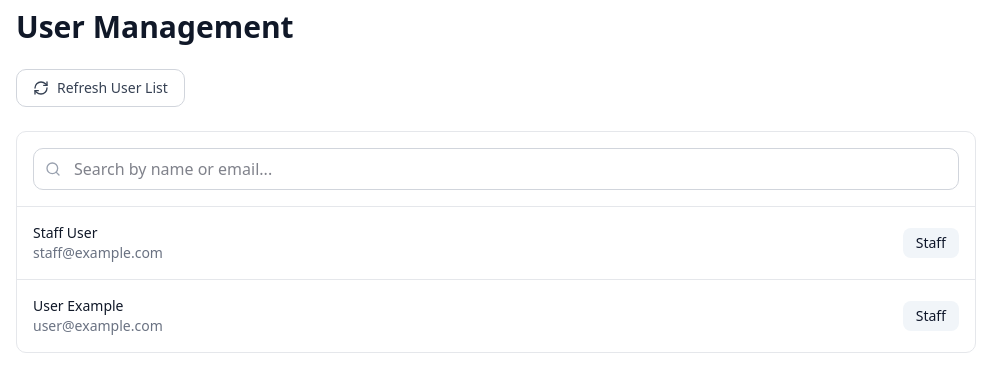
User Management - Scrum-318 › Scrum-318.1 - HR can search for users in the system › should allow HR to search for users by name
Expected: the heading "Staff User" is shown, [33,223,98,242]
# Enter user name in search field
Type "john.doe@example.com" into the field with placeholder "Search by name or email..." at [496, 169], box [33,148,959,190]
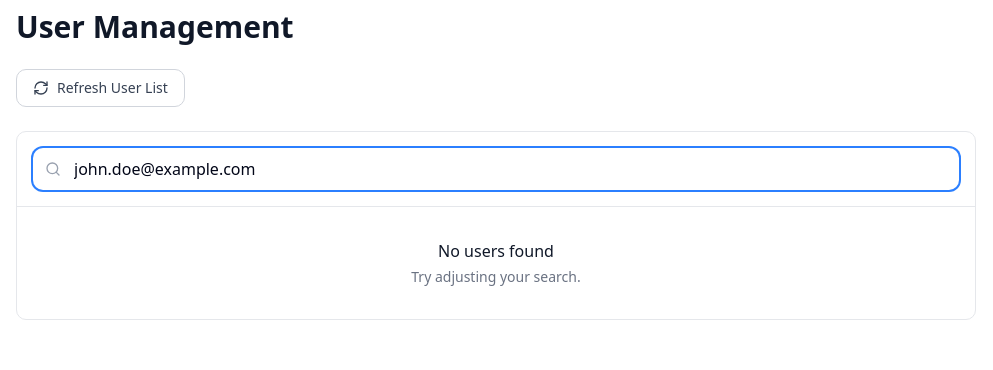
Expected: the text "No users found" is shown, [438,240,554,262]
